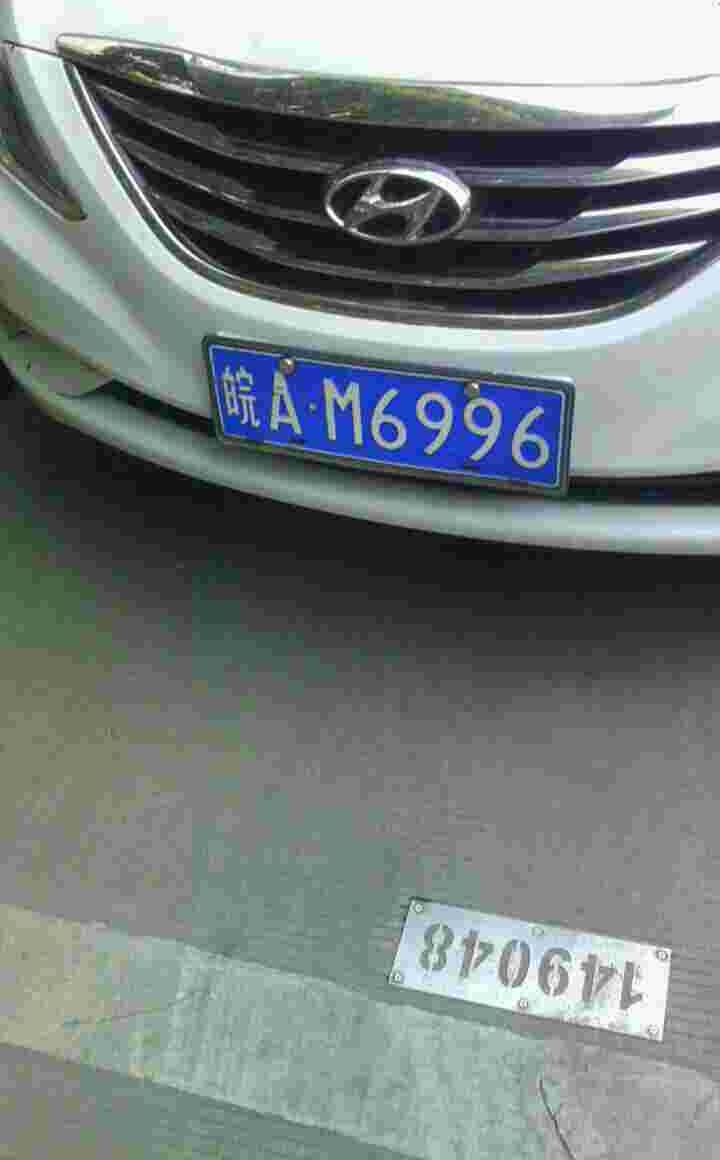car_blue: (203, 325, 579, 512)
